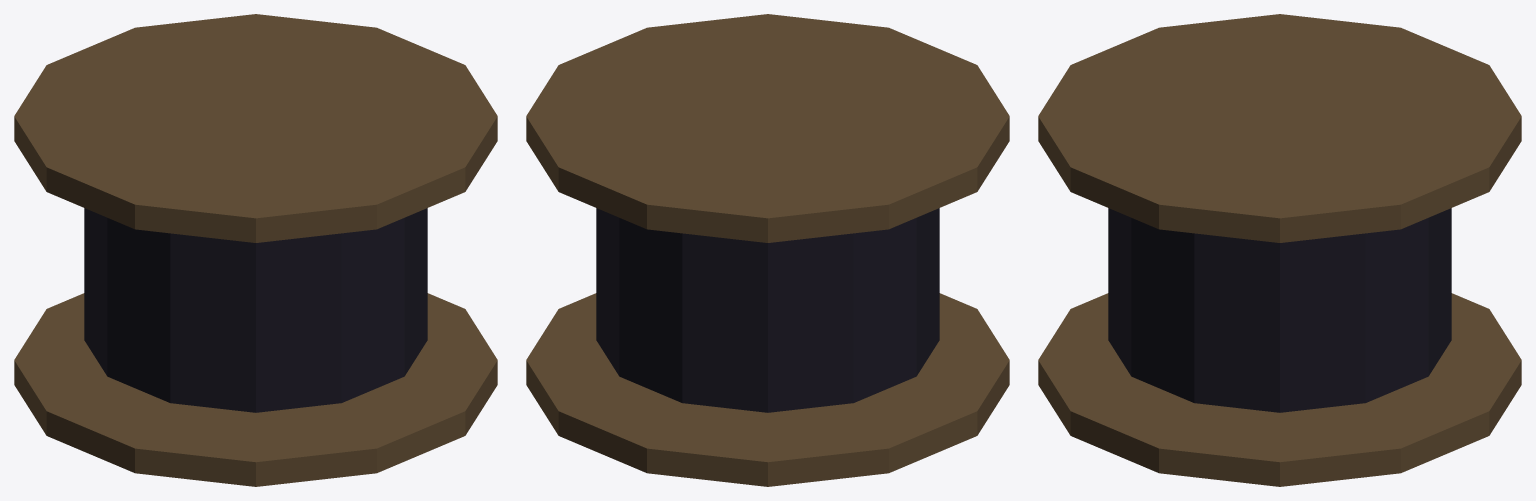
Rendered from cable-spool.glb.
3 views of the same model, side by side, from view 1: azimuth 30°, elevation 25°; view 2: azimuth 150°, elevation 25°; view 3: azimuth 270°, elevation 25° (orthographic).
Parts seen in each view (by area): view 1: cable-spool; view 2: cable-spool; view 3: cable-spool.
Boxes of the visible parts, left/top/right/bottom form: cable-spool: left=14, top=14, right=497, bottom=486; cable-spool: left=526, top=14, right=1009, bottom=486; cable-spool: left=1038, top=14, right=1521, bottom=486.
Size of the model in its own units: 1.24 by 0.76 by 1.24.
